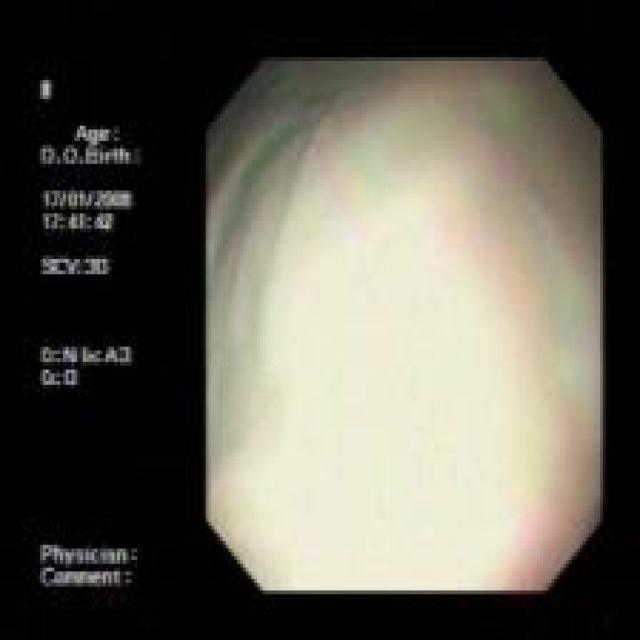color misalignment: (206, 61, 603, 591), (36, 73, 145, 591)
